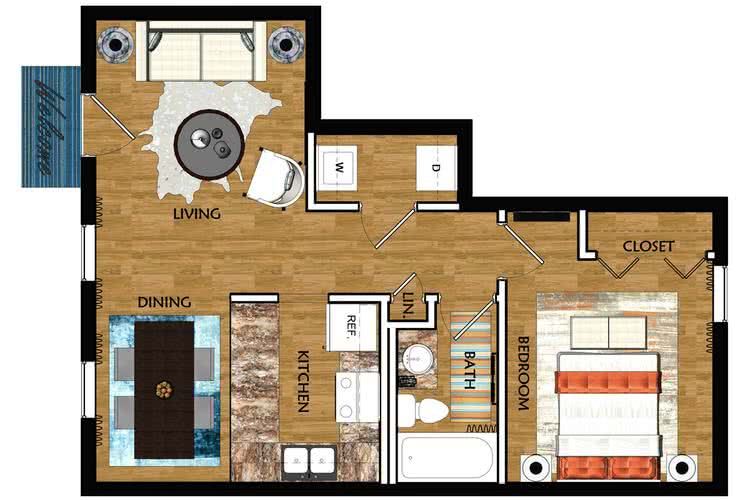door: (98, 89, 147, 161), (604, 254, 697, 288), (357, 211, 422, 249), (509, 223, 549, 283), (439, 303, 492, 341), (389, 267, 431, 292)
